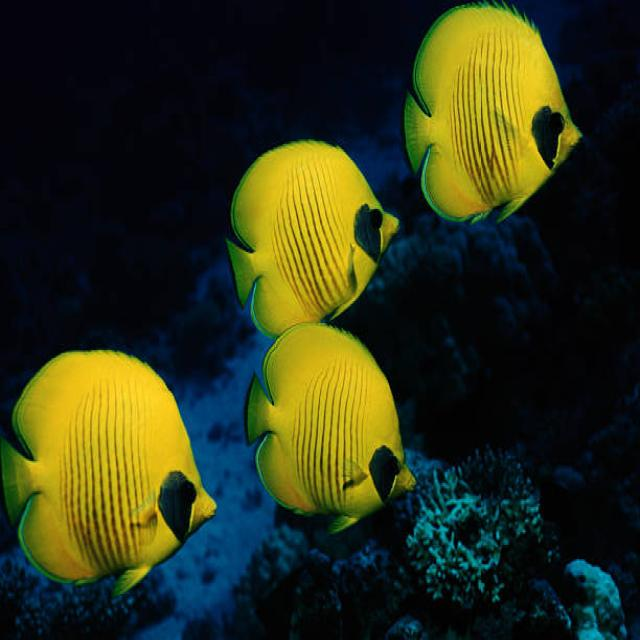ButterflyFish: (4, 348, 216, 604), (407, 0, 582, 230), (248, 329, 415, 539), (229, 142, 400, 338)
